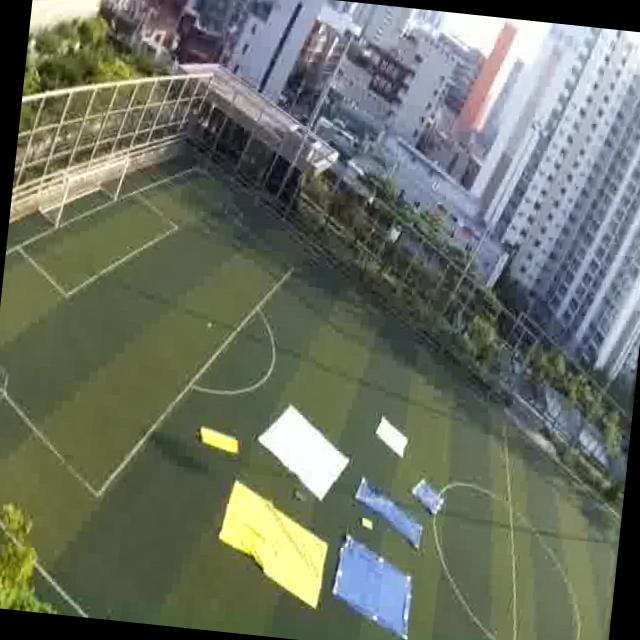danger: (327, 544, 418, 638), (352, 475, 395, 514), (408, 475, 447, 514)
safety: (249, 402, 357, 498), (372, 410, 418, 462)
warning: (213, 503, 330, 606), (195, 414, 243, 458)
